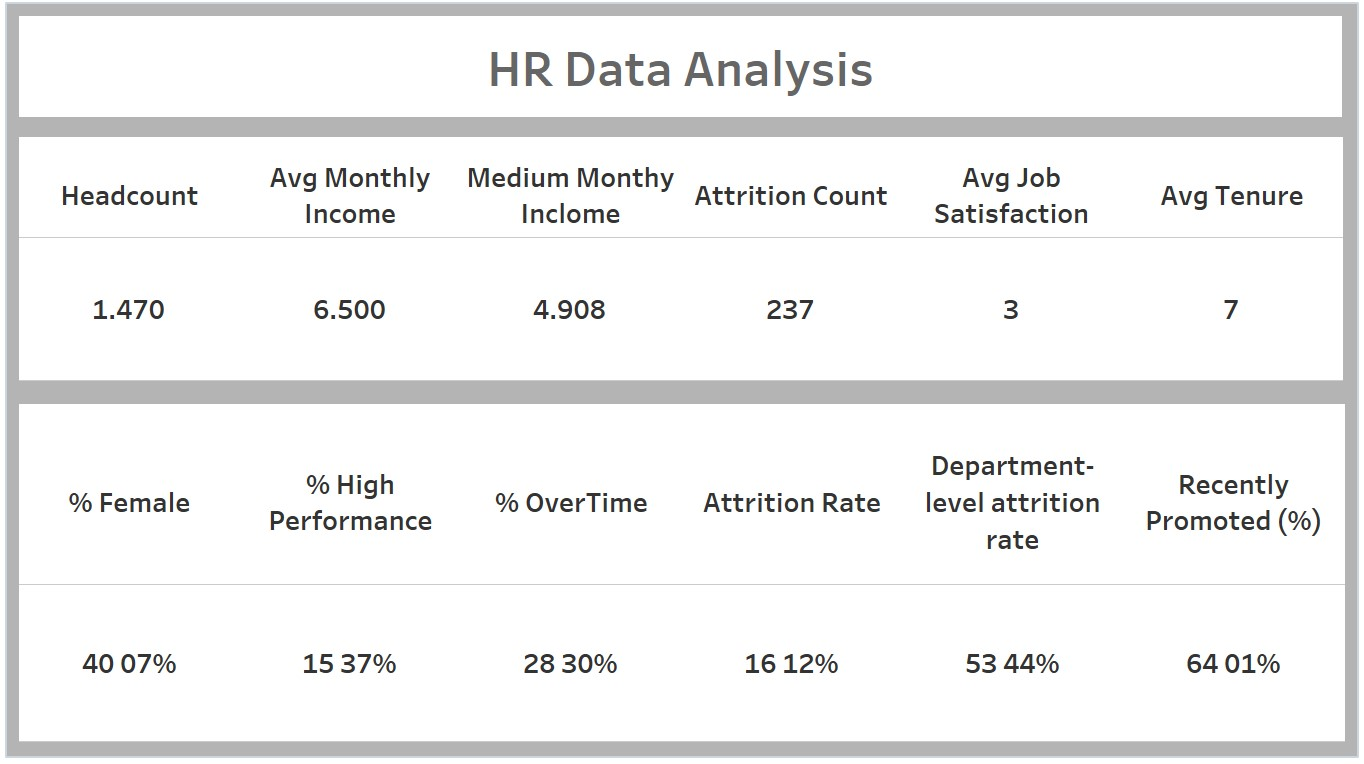

What the dashboard file says about the page in this screenshot:
{"tool":"tableau","page":{"name":"Dashboard 1","canvas":[1366,768],"ordinal":0},"visuals":[{"type":"text","box":[20,20,1323,101]},{"type":"worksheet","title":"KPI1","mark":"Automatic","box":[20,141,1324,244]},{"type":"worksheet","title":"KPI2","mark":"Automatic","box":[20,408,1326,338]}]}

Visuals, with their boxes in screenshot pixels (x1, y1, x2, y2), scaled from the page's 1366x768 canvas onto the 1364x764 screenshot:
text: bbox=[20, 20, 1341, 120]
"KPI1" worksheet: bbox=[20, 140, 1342, 383]
"KPI2" worksheet: bbox=[20, 406, 1344, 742]
